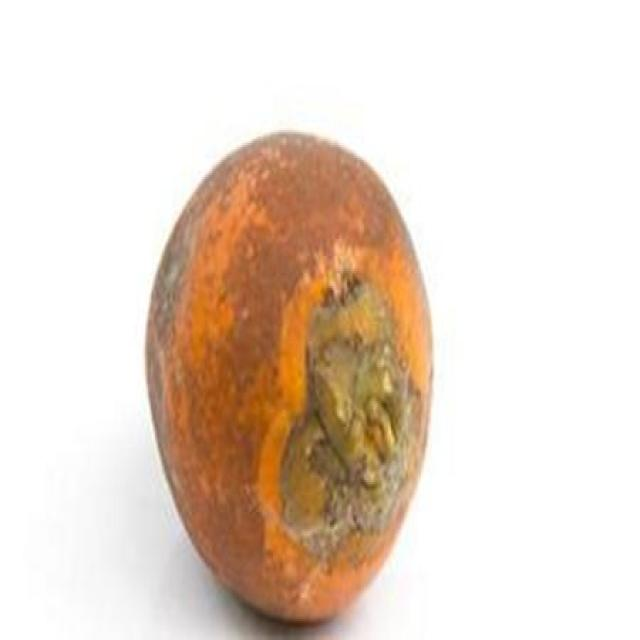good: (144, 132, 435, 627)
